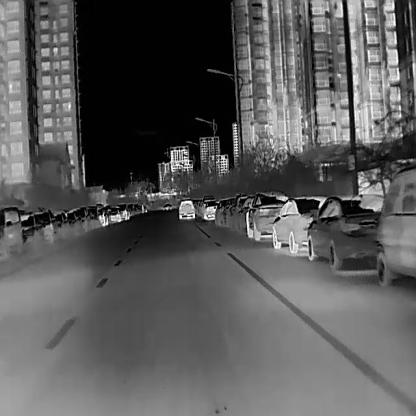car: (306, 192, 384, 269), (374, 164, 415, 287), (270, 194, 326, 253), (245, 188, 289, 239), (0, 204, 22, 258), (18, 211, 44, 249), (34, 207, 56, 243), (228, 192, 248, 230), (214, 196, 227, 226), (200, 198, 217, 219), (178, 198, 195, 218), (107, 205, 121, 222), (116, 202, 130, 218), (161, 202, 172, 209)
